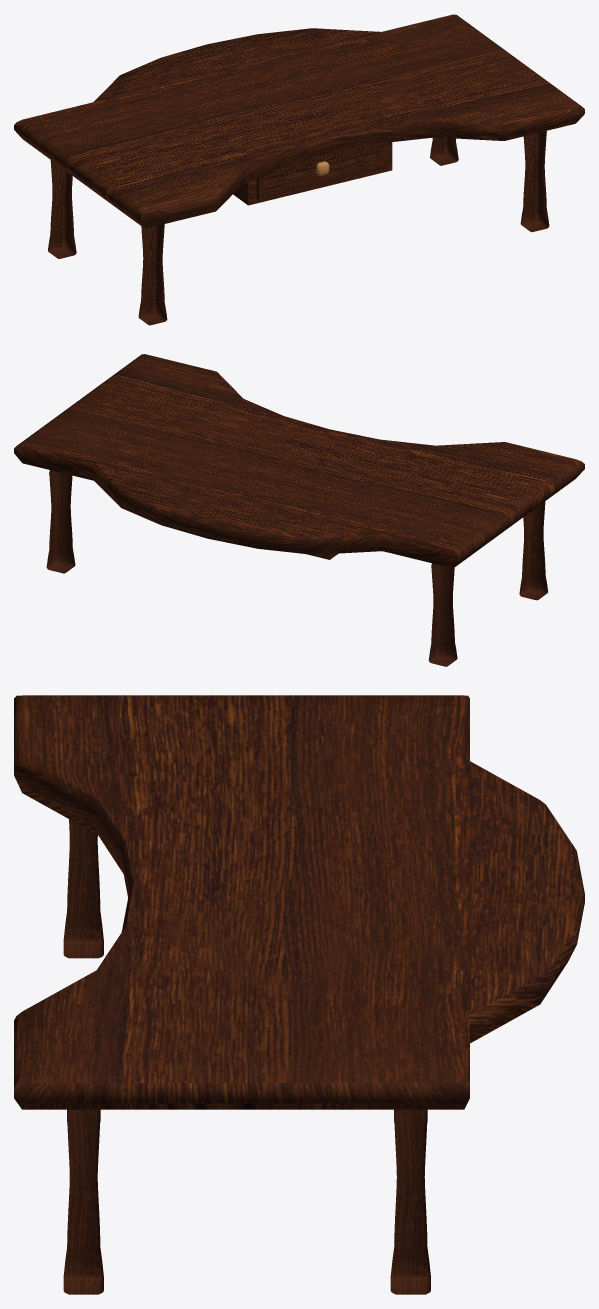
The model's file is G_Table.fbx.
3 views of the same model, one above another, from view 1: azimuth 30°, elevation 25°; view 2: azimuth 150°, elevation 25°; view 3: azimuth 270°, elevation 25° (orthographic). The views are drawn at different scales.
Parts seen in each view (by area): view 1: Table Plate, Table_Drawer, TableLeg_1.003, TableLeg_1, TableLeg_1.002, Table_DrawerBox, TableLeg_1.001; view 2: Table Plate, TableLeg_1.001, TableLeg_1.002, TableLeg_1.003; view 3: Table Plate, TableLeg_1.001, TableLeg_1, TableLeg_1.003.
Boxes of the visible parts, bbox=[...] form: Table Plate: bbox=[14, 14, 584, 228]; Table_Drawer: bbox=[256, 143, 384, 200]; TableLeg_1.003: bbox=[138, 224, 167, 325]; TableLeg_1: bbox=[520, 131, 549, 232]; TableLeg_1.002: bbox=[48, 160, 76, 258]; Table_DrawerBox: bbox=[233, 142, 392, 205]; TableLeg_1.001: bbox=[430, 137, 458, 165]; Table Plate: bbox=[14, 354, 584, 568]; TableLeg_1.001: bbox=[46, 470, 75, 573]; TableLeg_1.002: bbox=[428, 563, 457, 666]; TableLeg_1.003: bbox=[519, 501, 548, 600]; Table Plate: bbox=[14, 695, 584, 1109]; TableLeg_1.001: bbox=[390, 1109, 430, 1294]; TableLeg_1: bbox=[63, 1109, 103, 1294]; TableLeg_1.003: bbox=[63, 819, 103, 958].
Size of the model in its own units: 409 by 114 by 252.
